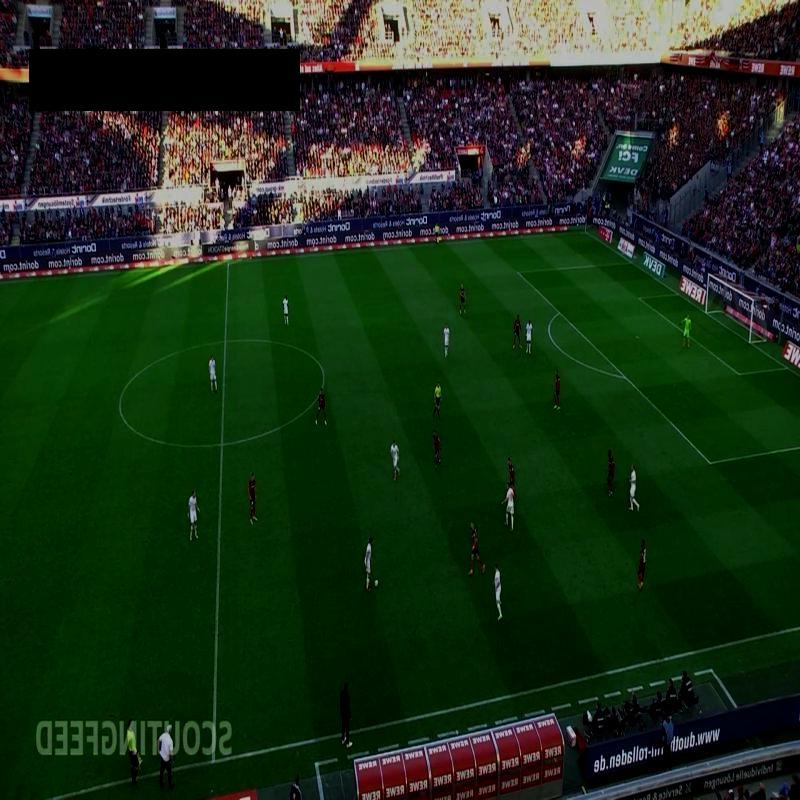1: (578, 226, 593, 240)
10: (552, 306, 566, 320)
11: (618, 370, 632, 384)
12: (703, 456, 717, 470)
13: (222, 254, 236, 268)
14: (218, 333, 232, 347)
15: (216, 435, 230, 450)
16: (206, 752, 224, 772)
2: (624, 256, 638, 270)
3: (672, 286, 686, 300)
4: (780, 359, 794, 373)
7: (632, 290, 646, 304)
8: (732, 367, 746, 381)
9: (511, 265, 525, 279)
c: (318, 368, 332, 382), (113, 395, 126, 408)
